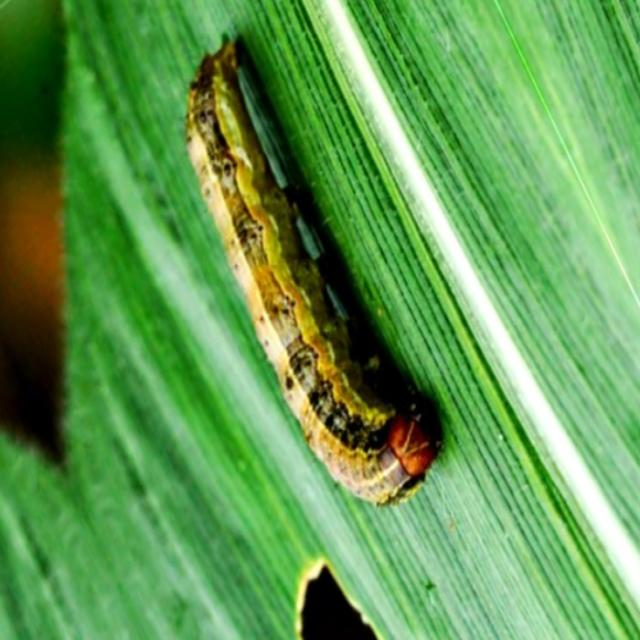Armyworm: (168, 26, 486, 530)
